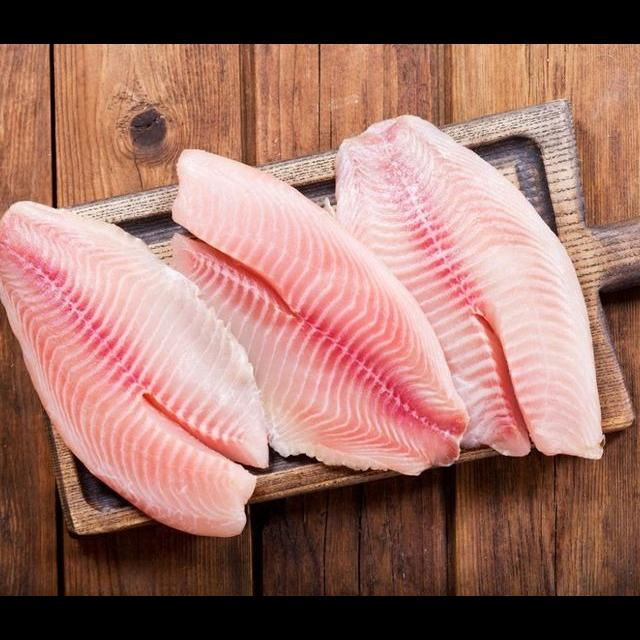fish: (0, 190, 284, 550)
